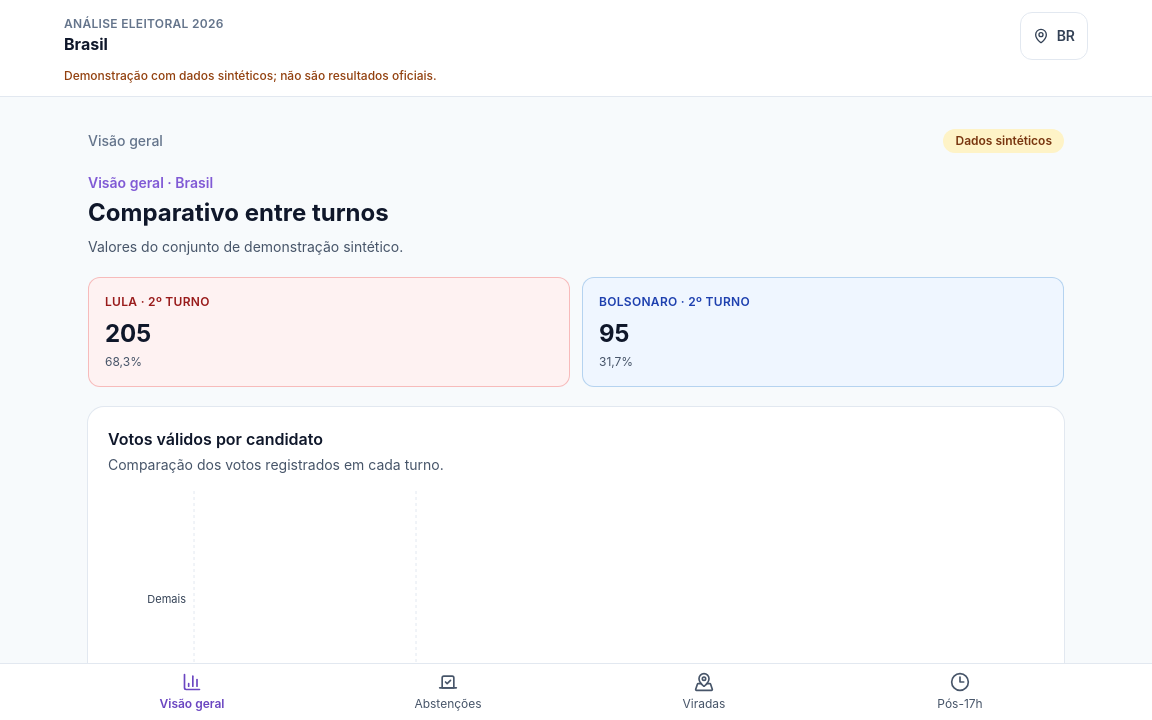
Test: election dashboard › fetches only the national summary initially and switches across the four areas
The image size is (1152, 720).
Expected: the heading "Comparativo entre turnos" is shown, [88,198,389,227]
Expected: the text "Dados sintéticos" is shown, [944,129,1064,153]
Click the button "Abstenções".
click(448, 692)  # box [320,664,576,719]
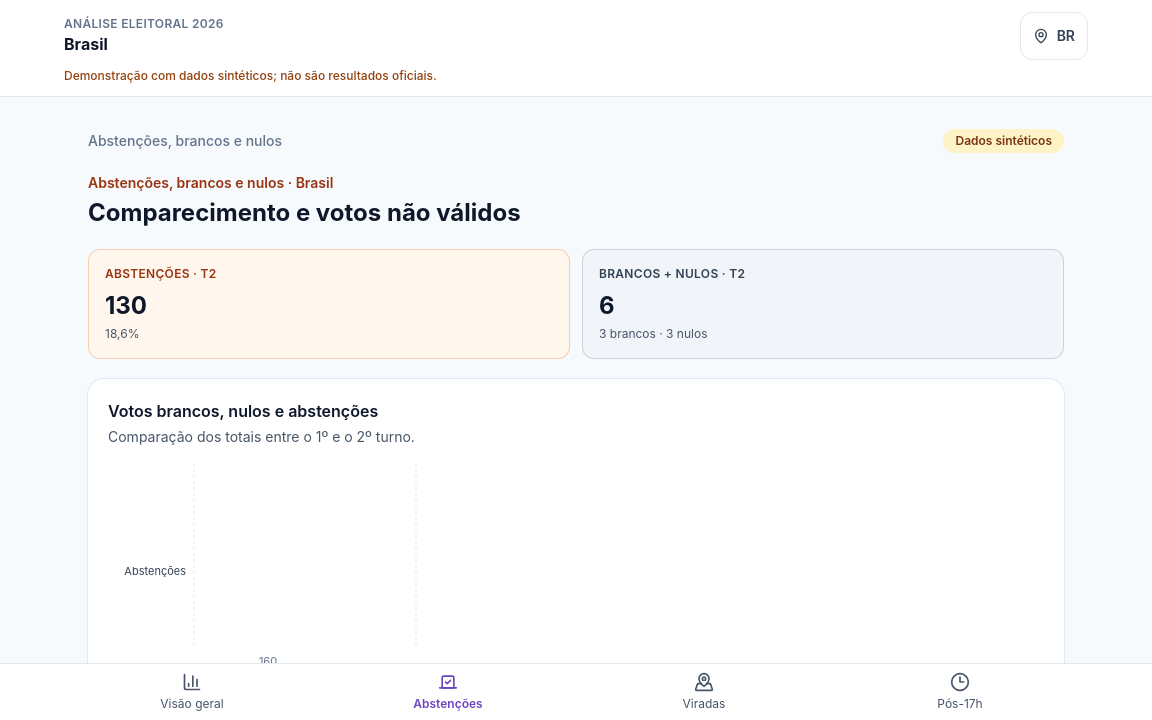
Now the heading "Comparecimento e votos não válidos" is shown, box [88,198,521,227]
Click the button "Viradas".
click(704, 692)  # box [576,664,832,719]
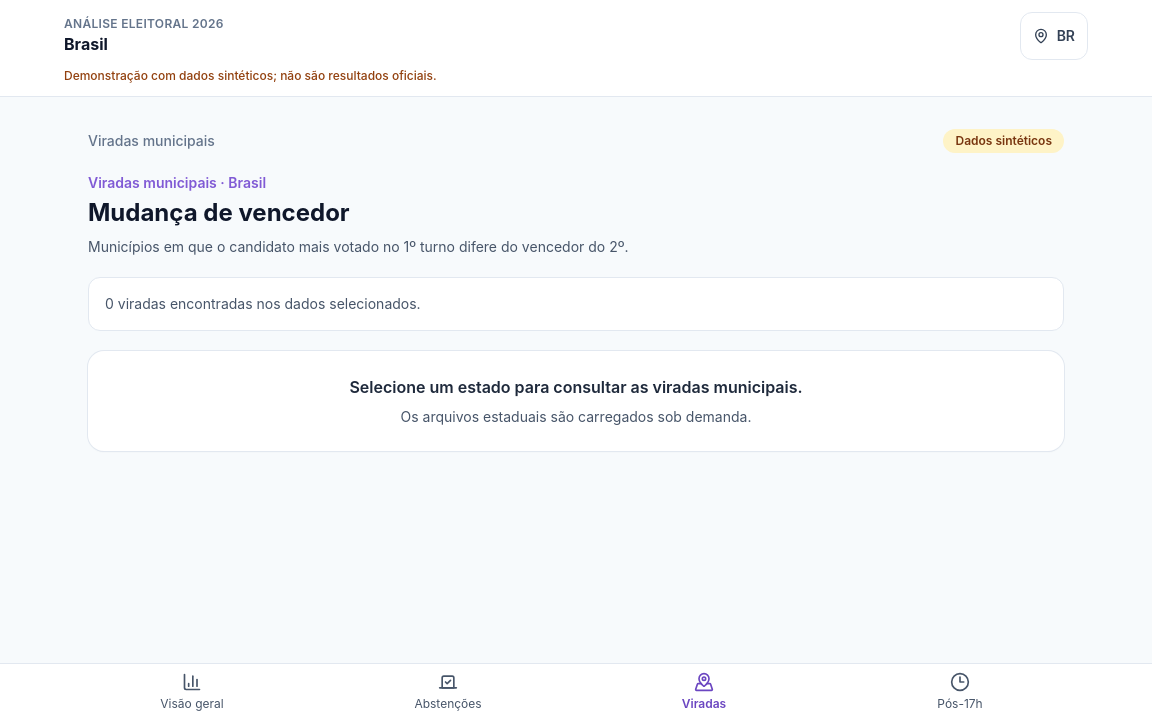
Now the heading "Mudança de vencedor" is shown, box [88,198,350,227]
Now the text "Selecione um estado para consultar as viradas municipais." is shown, box [349,377,803,397]
Click the button "Pós-17h".
click(960, 692)  # box [832,664,1088,719]
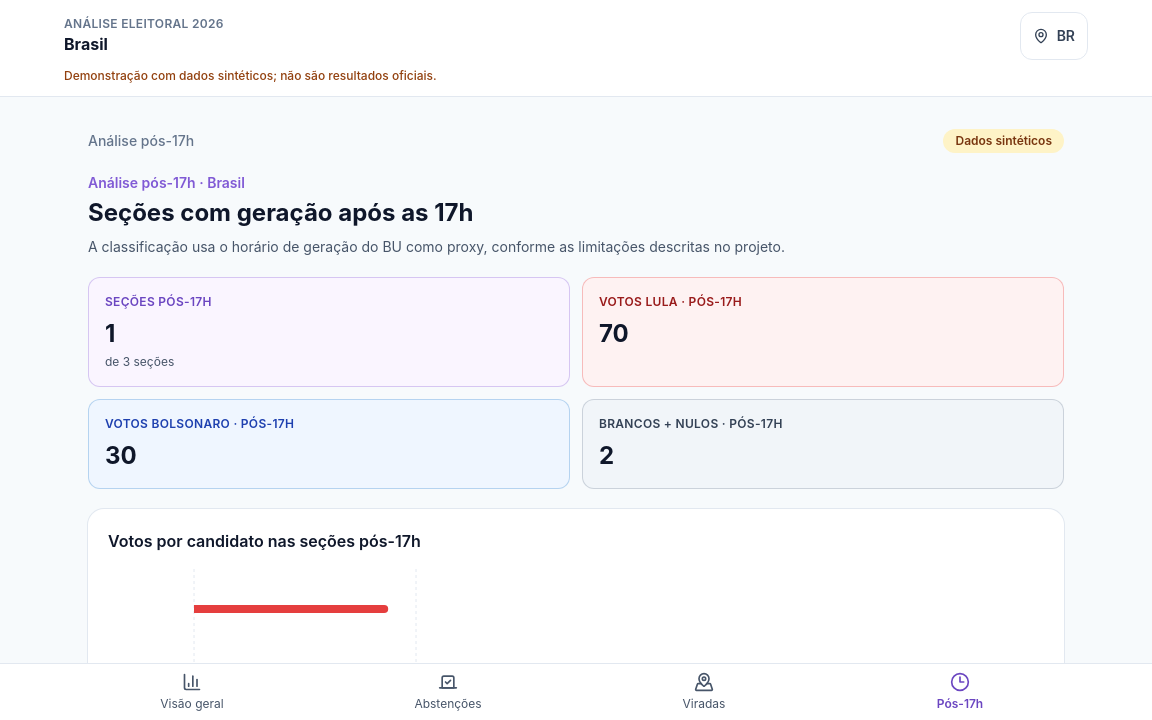
Now the heading "Seções com geração após as 17h" is shown, box [88,198,474,227]
